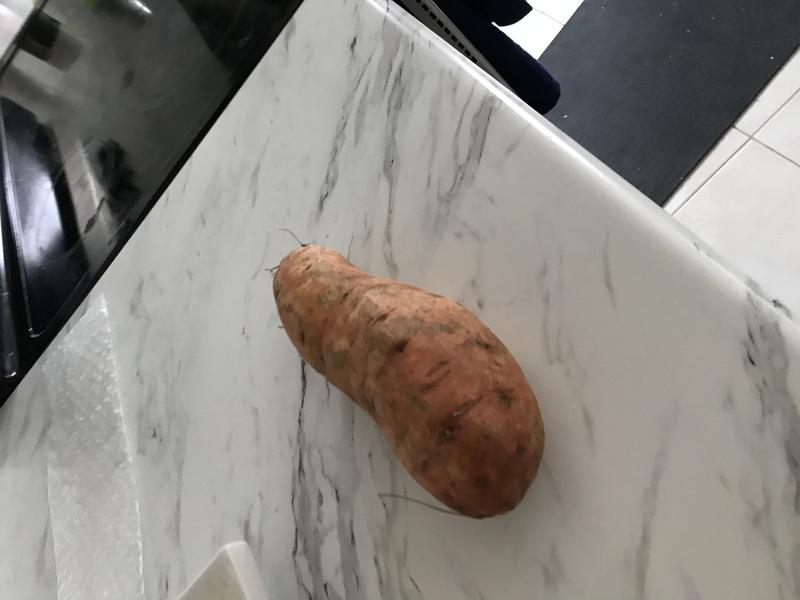sweet_potato: (257, 230, 556, 534)
